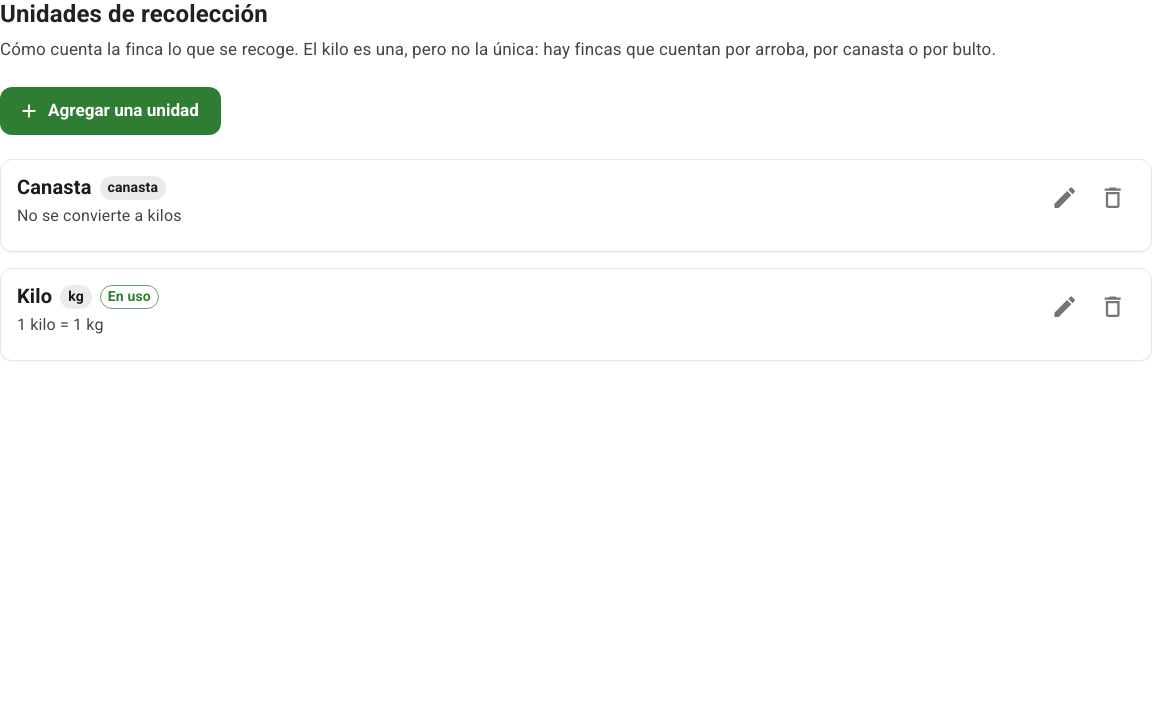
Test: units of collection › says which of the two actually happened
Step 1. Click the button named "Quitar Kilo" → {"x": 1113, "y": 307}, box x1=1091 y1=285 x2=1135 y2=329
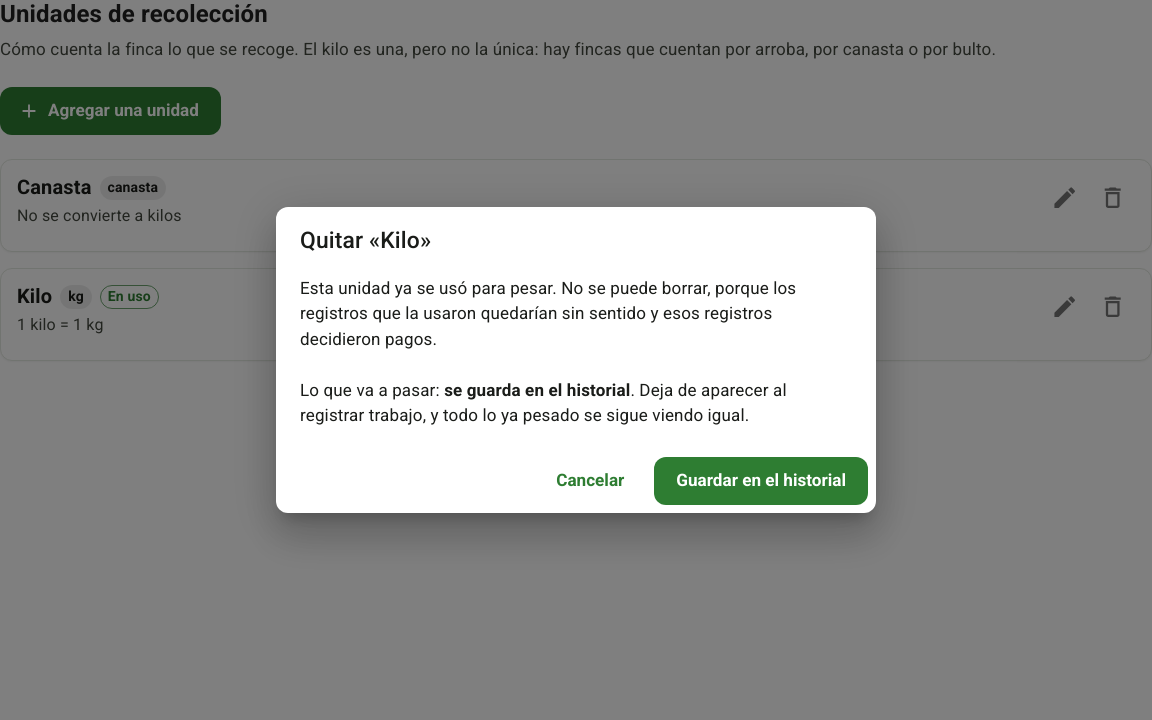
Step 2. Click the button "Guardar en el historial" → {"x": 761, "y": 481}, box x1=654 y1=457 x2=868 y2=505
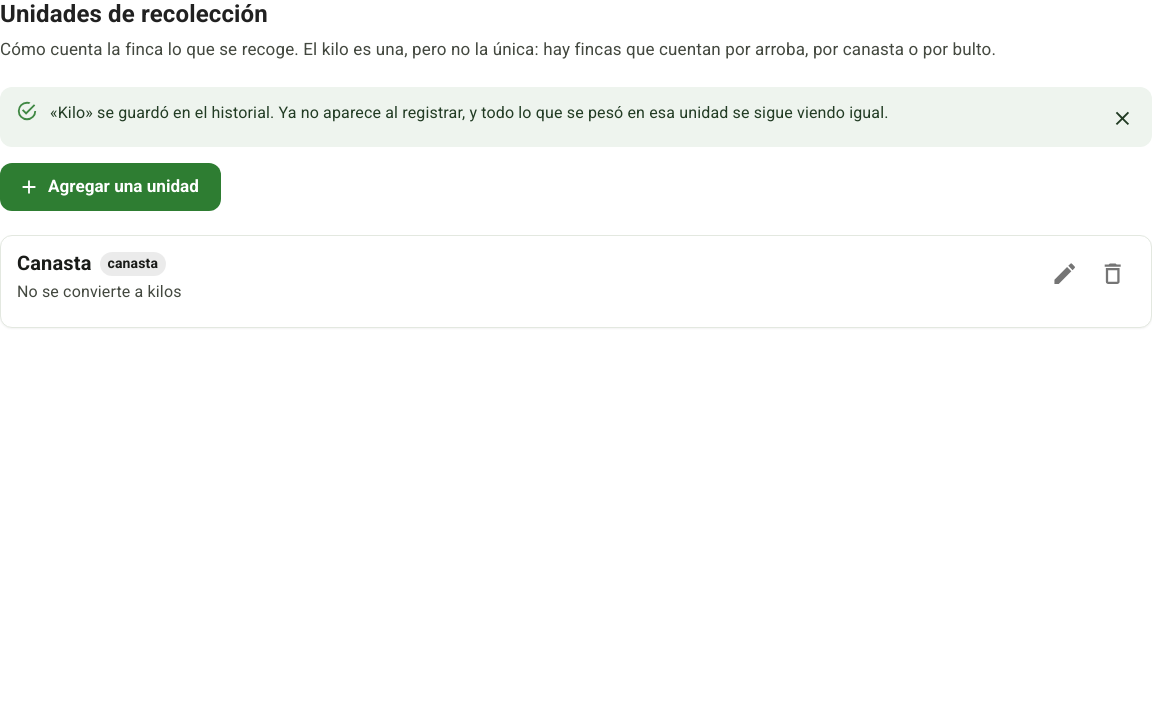
expect the text "se guardó en el historial" is shown: met, box x1=50 y1=103 x2=888 y2=122
